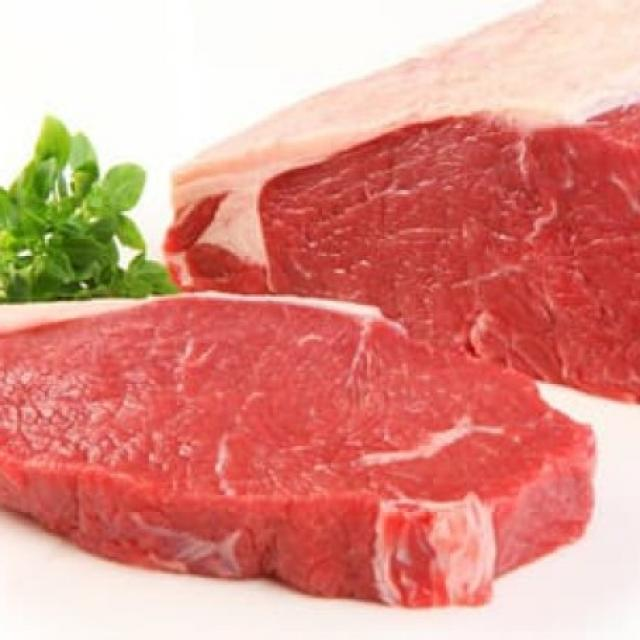beef: (159, 1, 640, 414), (3, 284, 601, 616)
